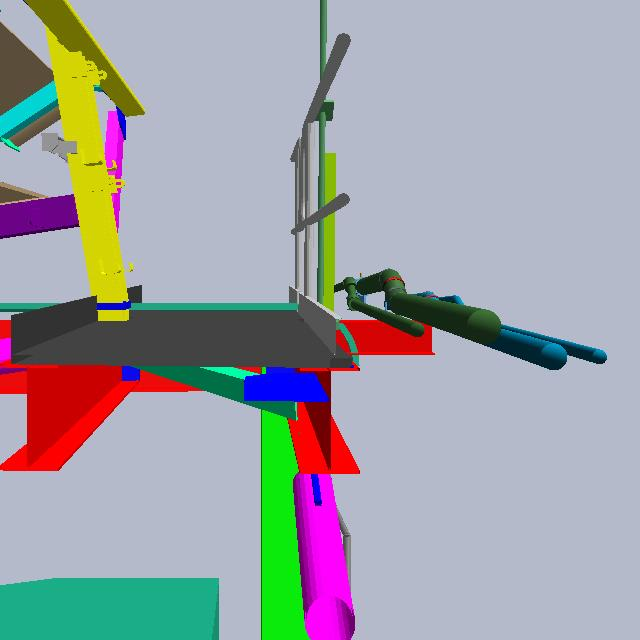Poste: (318, 1, 326, 345)
Soporte: (308, 145, 341, 358)
